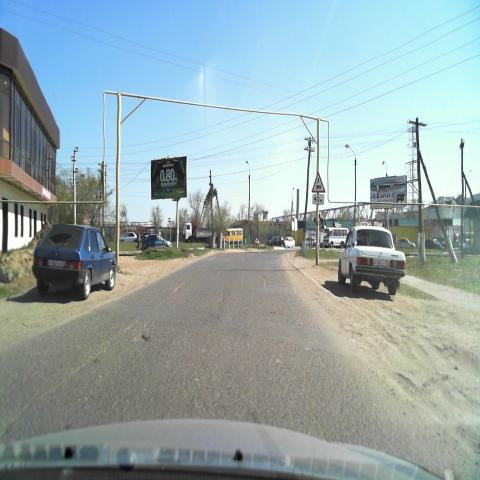1_2: (311, 171, 325, 193)
